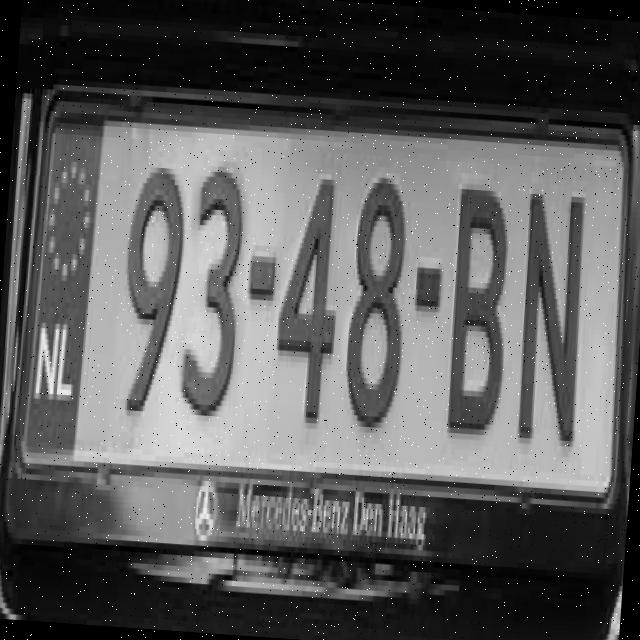EU: (7, 83, 640, 557)
Pays-Bas: (26, 116, 101, 464)
